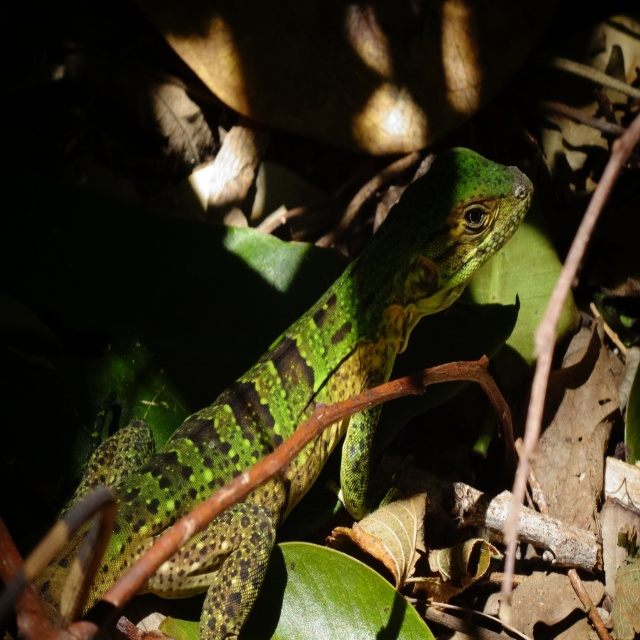Lizard: (89, 142, 526, 639)
